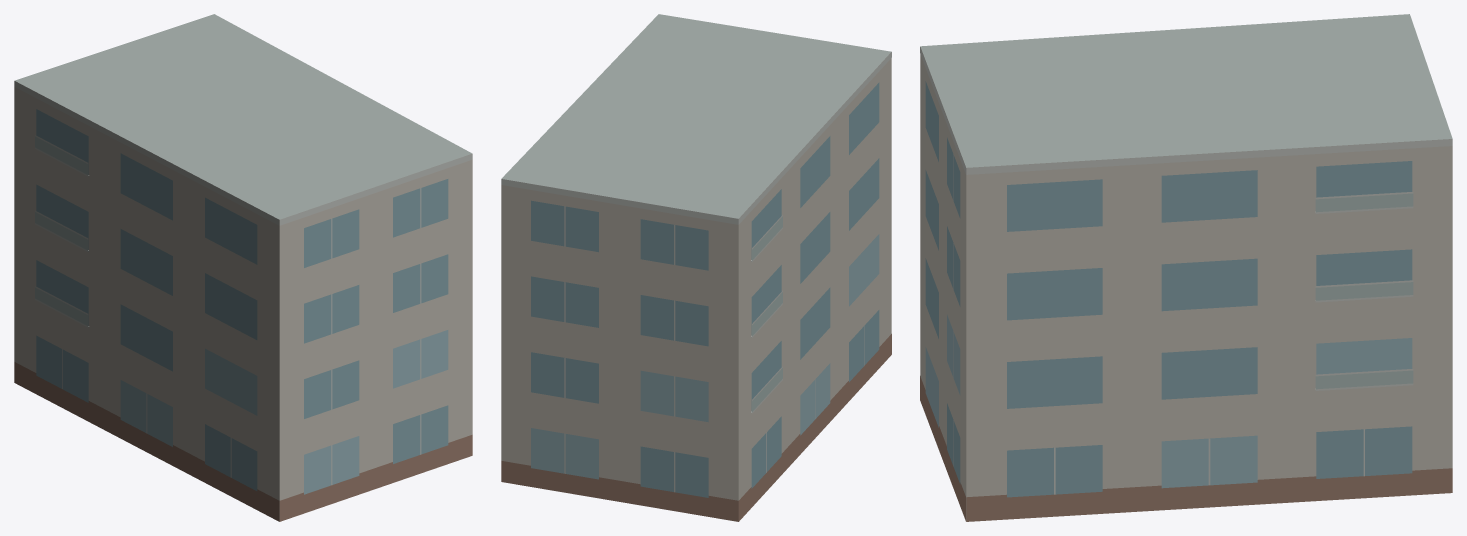
Rendered from survey-upis-32719578.glb.
The picture shows the model from 3 angles, left to right: view 1: azimuth 30°, elevation 25°; view 2: azimuth 150°, elevation 25°; view 3: azimuth 270°, elevation 25°; orthographic projection. The views are drawn at different scales.
Visible parts, largest first — view 1: survey-upis-32719578.tmp; view 2: survey-upis-32719578.tmp; view 3: survey-upis-32719578.tmp.
Boxes of the visible parts, x1=… form: survey-upis-32719578.tmp: x1=14, y1=14, x2=472, y2=521; survey-upis-32719578.tmp: x1=501, y1=14, x2=891, y2=521; survey-upis-32719578.tmp: x1=920, y1=14, x2=1452, y2=521.
Size of the model in its own units: 11.38 by 12.2 by 16.64.
